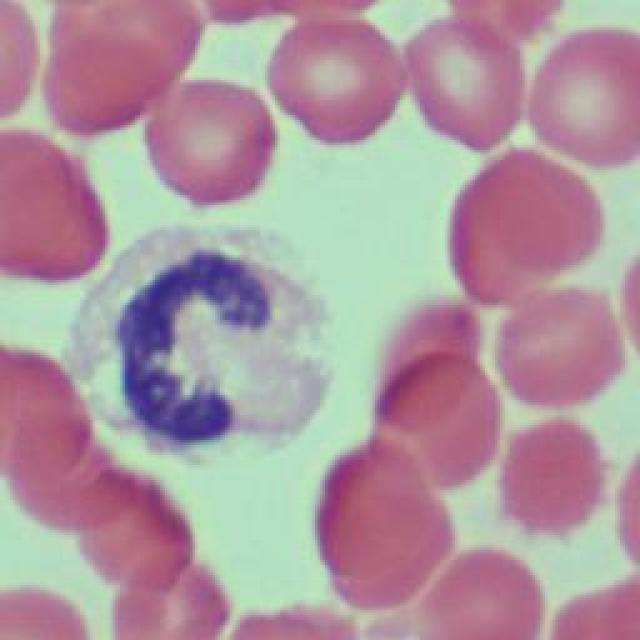RBC: (316, 442, 456, 608), (269, 15, 406, 145), (374, 352, 501, 488), (3, 128, 105, 288), (407, 23, 525, 158), (52, 0, 202, 105), (495, 288, 625, 408), (479, 145, 606, 267), (452, 169, 562, 306), (532, 27, 640, 165), (155, 82, 275, 202), (499, 415, 609, 537), (45, 32, 167, 136), (10, 425, 130, 530), (80, 475, 192, 587), (0, 344, 90, 481), (412, 550, 548, 640), (372, 303, 480, 415), (112, 560, 228, 638), (552, 577, 639, 640), (0, 1, 40, 119), (230, 605, 355, 640), (0, 592, 90, 640), (453, 0, 568, 32), (617, 457, 640, 567)
WBC: (64, 223, 336, 465)
